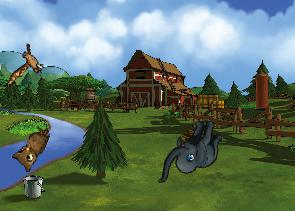eagle: (4, 40, 47, 92)
elephant: (157, 113, 224, 191)
owl: (8, 120, 51, 174)
